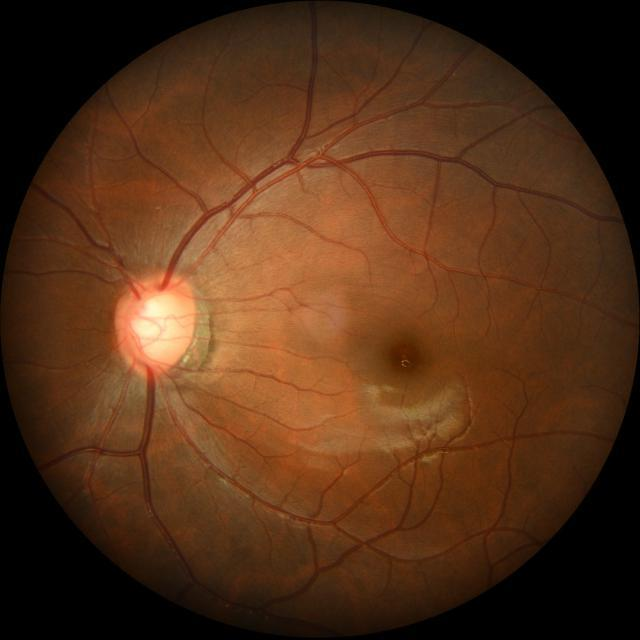OC: (133, 292, 181, 361)
OD: (114, 272, 198, 374)
